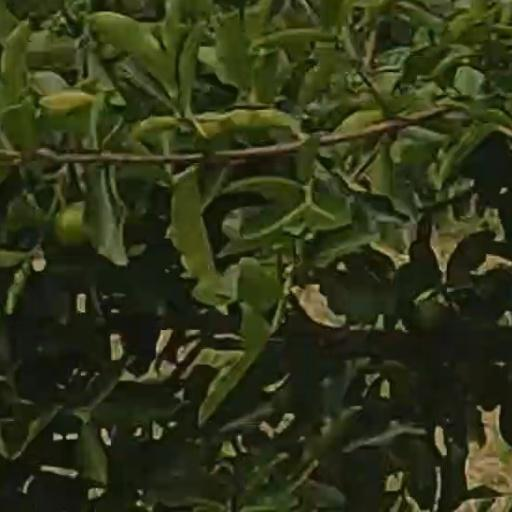acerola_verde: (57, 206, 85, 245)
